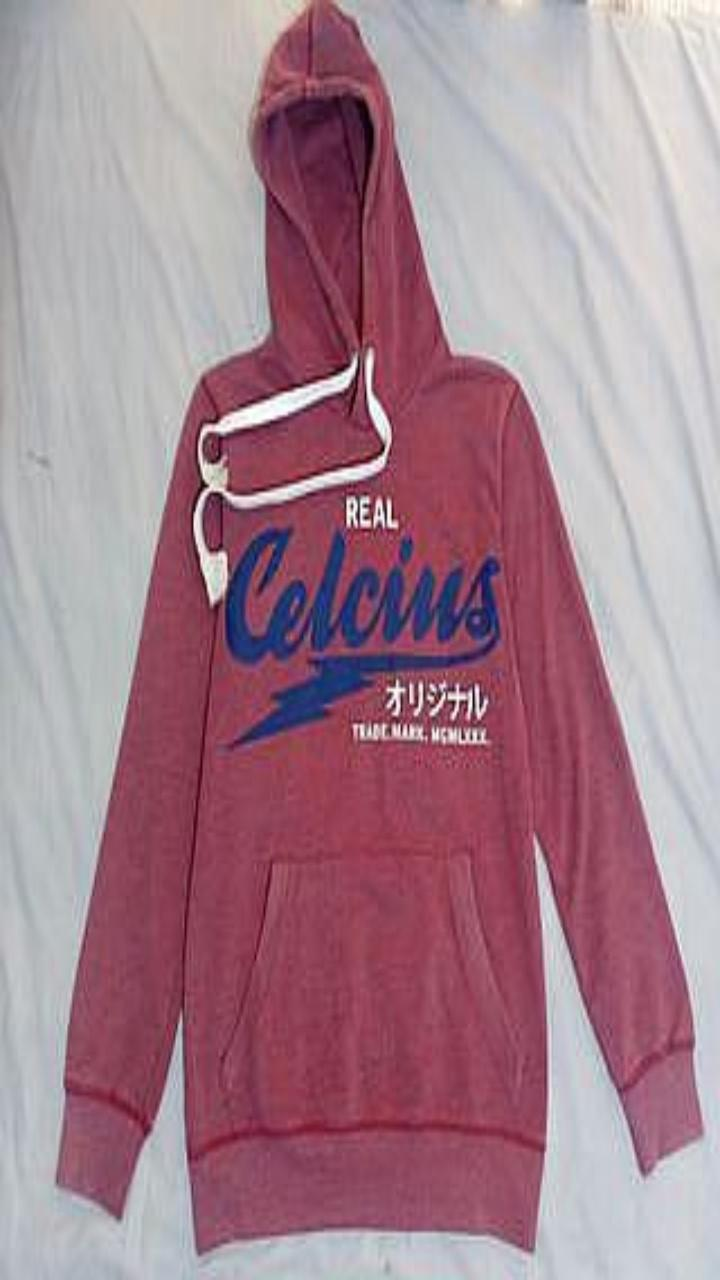Hoodie: (56, 0, 702, 1252)
